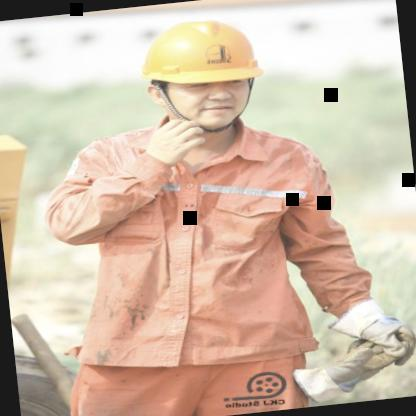helmet: (119, 6, 289, 148)
